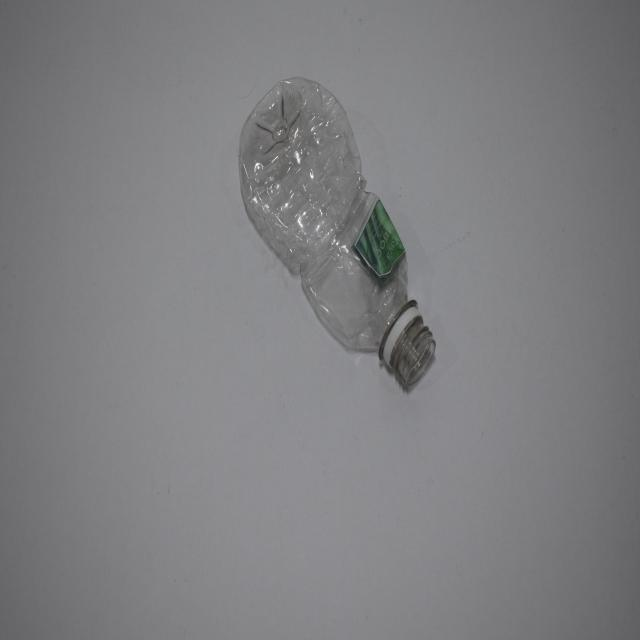plastic: (236, 69, 438, 390)
